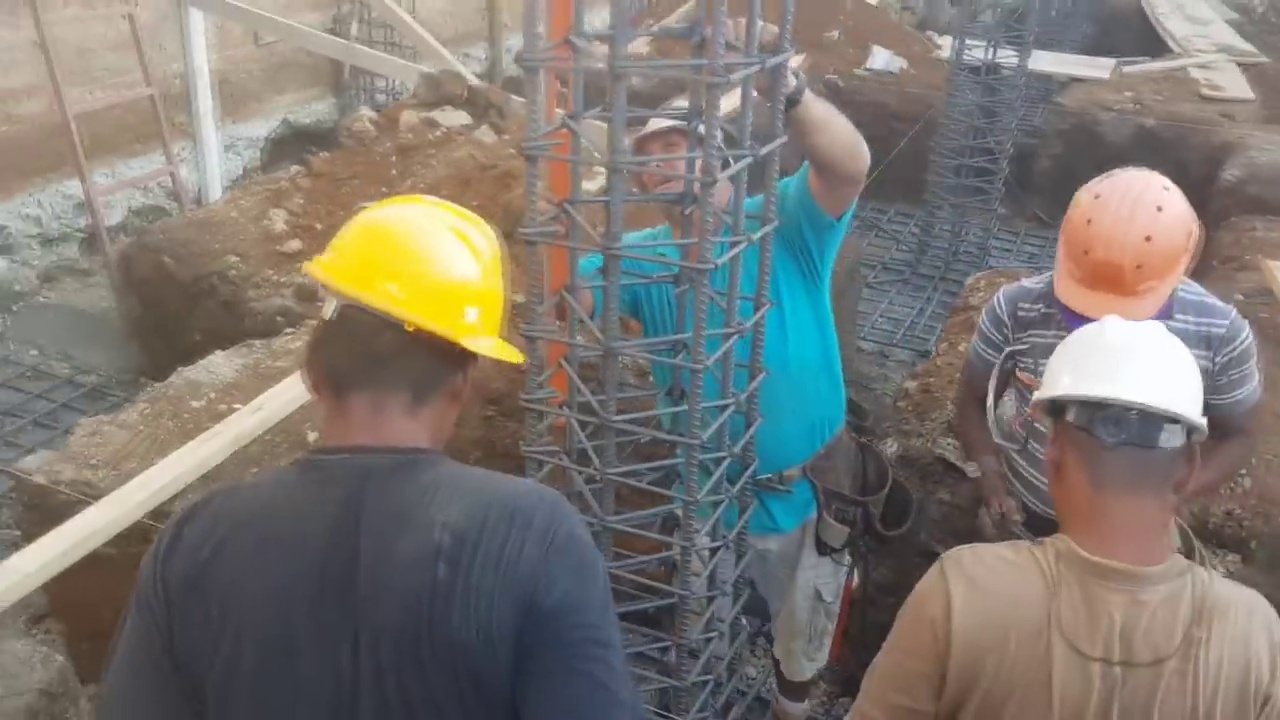helmet: (292, 186, 524, 371), (1026, 313, 1213, 445), (1058, 166, 1209, 321)
helmet-off: (631, 97, 727, 209)
helmet-on: (291, 193, 518, 449), (1025, 315, 1213, 583), (1041, 163, 1211, 319)
person: (102, 160, 590, 720), (552, 53, 867, 720), (853, 320, 1275, 715), (947, 159, 1276, 542)
